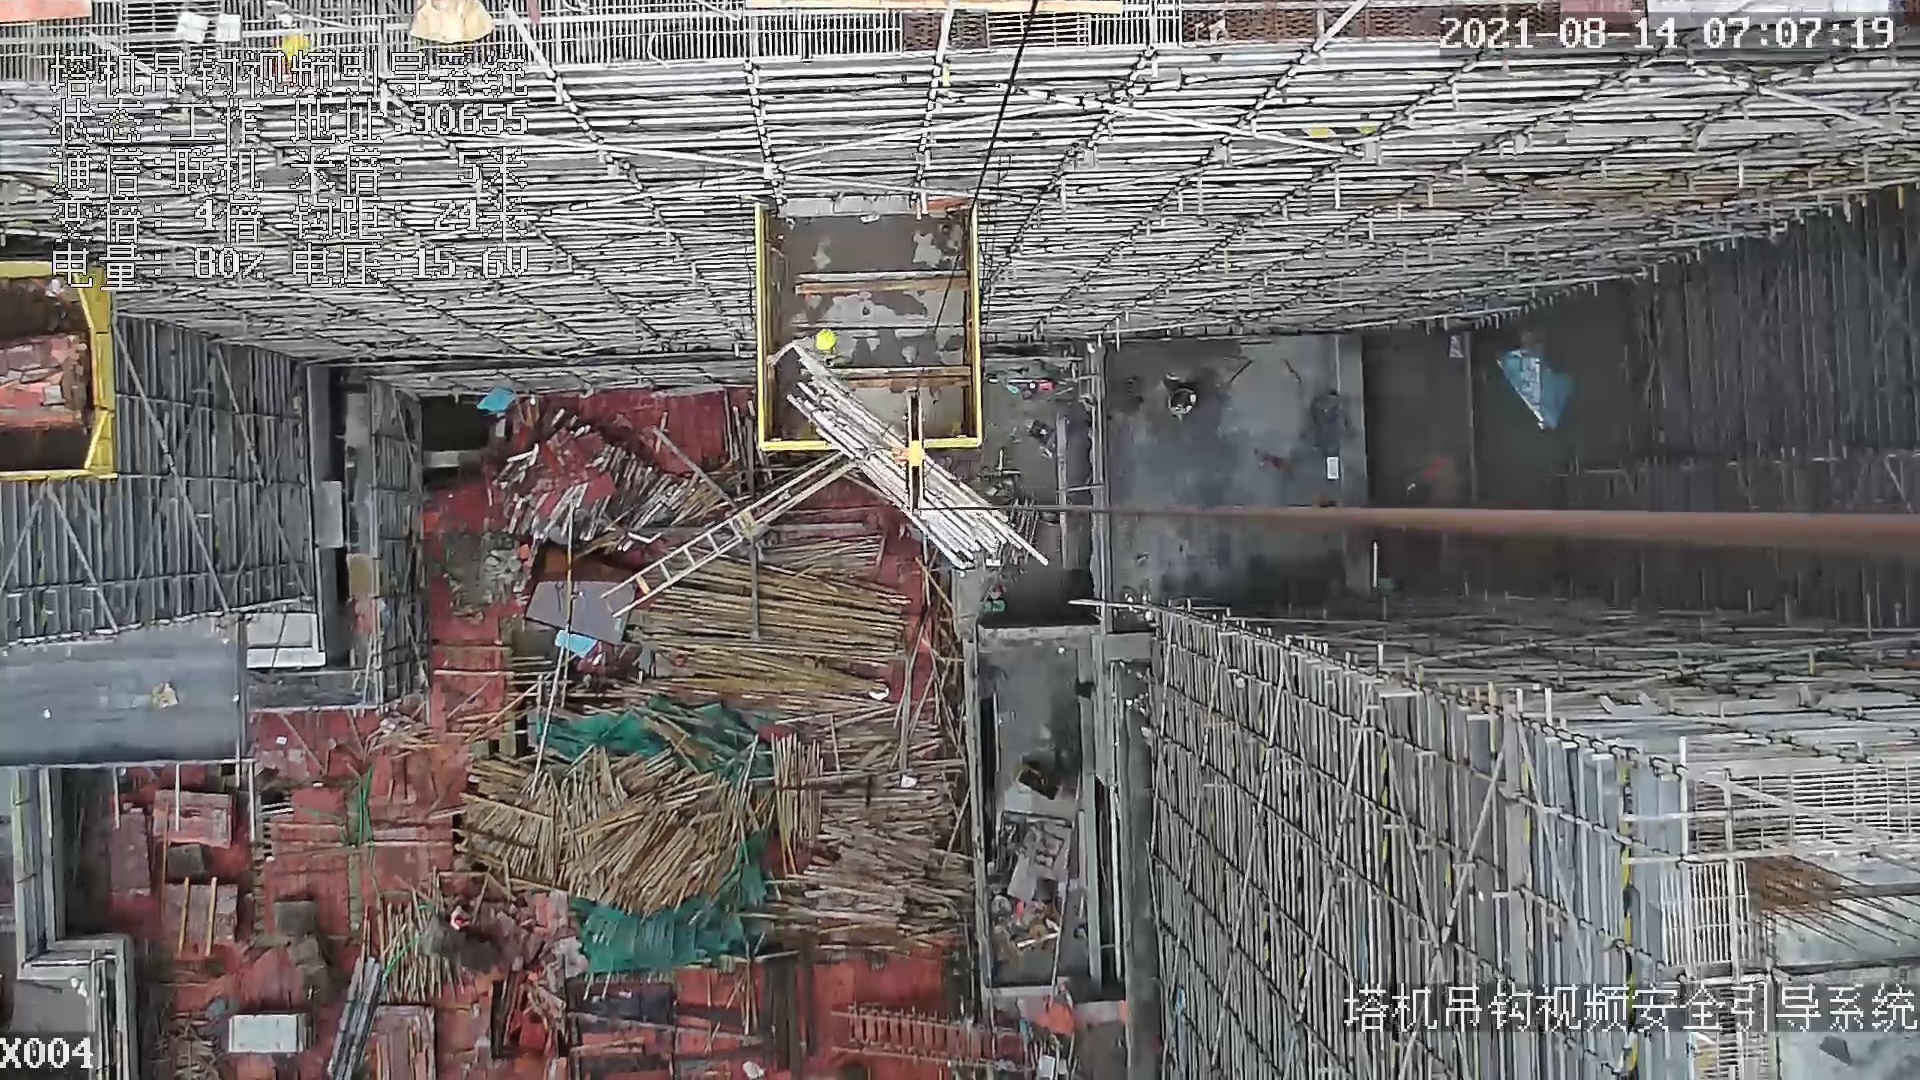helmet: (812, 328, 840, 354)
hook: (900, 390, 928, 509)
person: (776, 326, 872, 380)
